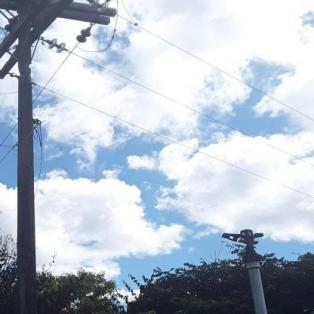Poste: (12, 31, 53, 314)
